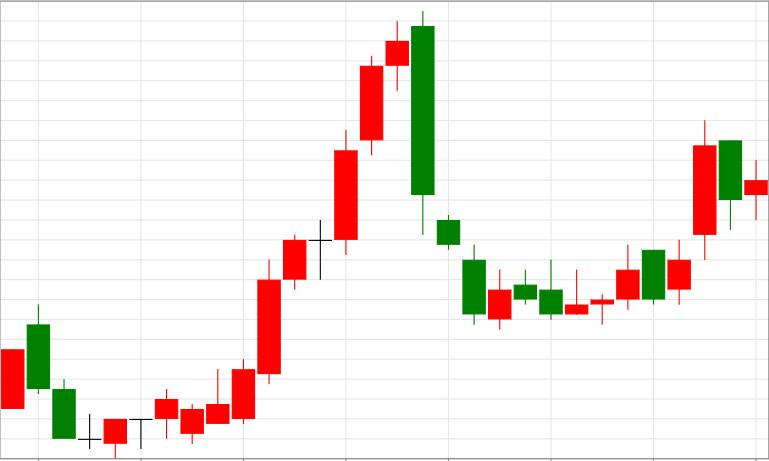bearish_engulfing_fall: (181, 10, 435, 444)
